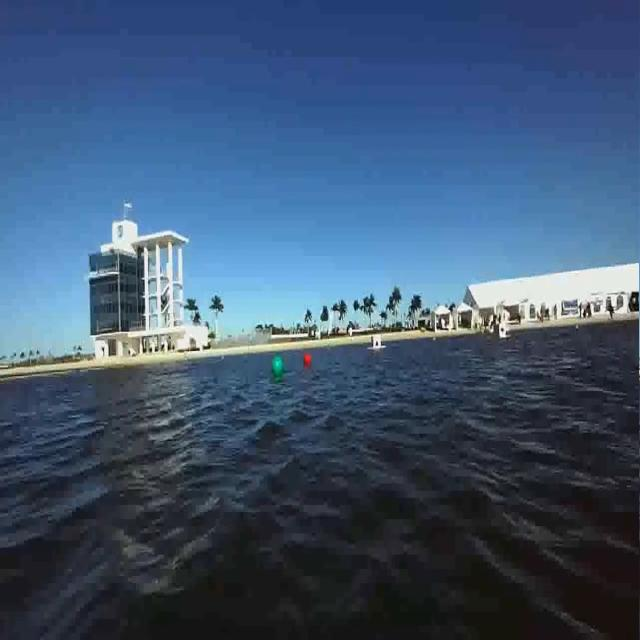green-buoy: (272, 356, 285, 378)
red-buoy: (305, 353, 313, 366)
